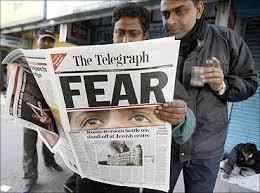Printing industry: (0, 5, 260, 193)
